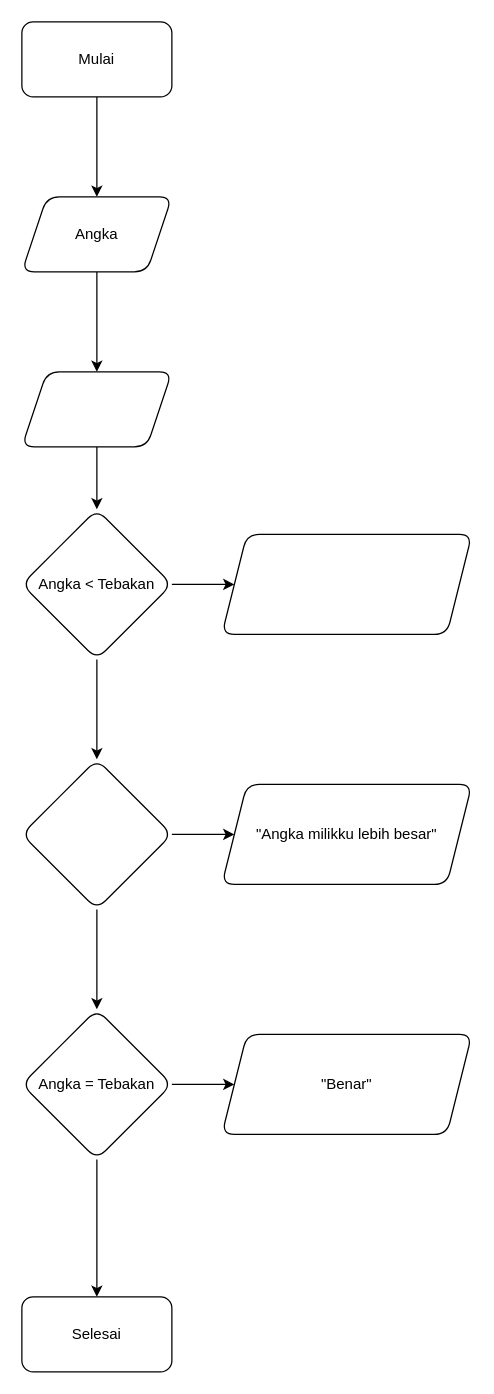
The diagram is 494 pixels wide and 1394 high, and some of its shapes have lost their labels. Here are the shapes that lost their labels. From the top down, the centre of each, then its label:
point (96, 409): Tebakan
point (346, 583): "Angka milikku lebih kecil"
point (96, 833): Angka > Tebakan
